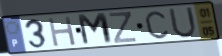3: (24, 16, 51, 51)
C: (143, 10, 170, 41)
H: (46, 15, 78, 49)
M: (75, 11, 115, 47)
U: (167, 6, 199, 41)
Z: (107, 11, 139, 45)
